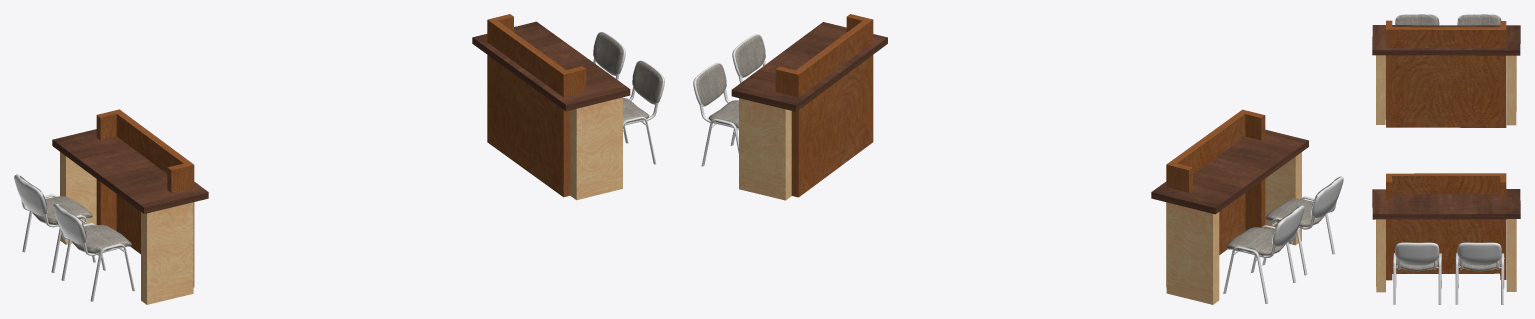
The model's file is MejaKursiEntrance.fbx.
The picture shows the model from 3 angles, left to right: view 1: azimuth 30°, elevation 25°; view 2: azimuth 150°, elevation 25°; view 3: azimuth 270°, elevation 25°; orthographic projection. The views are drawn at different scales.
Parts seen in each view (by area): view 1: Cube.003, sidushka.001_tkan_0.002, sidushka.001_tkan_0.001, sidushka.001_tkan_0.004, sidushka.001_tkan_0.003; view 2: Cube.003, sidushka.001_tkan_0.001, sidushka.001_tkan_0.003, sidushka.001_tkan_0.002, sidushka.001_tkan_0.004; view 3: Cube.003, sidushka.001_tkan_0.003, sidushka.001_tkan_0.004, sidushka.001_tkan_0.001, sidushka.001_tkan_0.002.
Boxes of the visible parts, box(x1,y1,x2,y2) form: Cube.003: box(52, 14, 630, 304); sidushka.001_tkan_0.002: box(53, 203, 135, 301); sidushka.001_tkan_0.001: box(14, 174, 95, 273); sidushka.001_tkan_0.004: box(623, 60, 664, 164); sidushka.001_tkan_0.003: box(593, 32, 625, 79); Cube.003: box(731, 14, 1308, 304); sidushka.001_tkan_0.001: box(1223, 205, 1304, 303); sidushka.001_tkan_0.003: box(693, 63, 738, 166); sidushka.001_tkan_0.002: box(1262, 176, 1343, 275); sidushka.001_tkan_0.004: box(732, 34, 765, 83); Cube.003: box(1372, 20, 1520, 292); sidushka.001_tkan_0.003: box(1455, 242, 1504, 304); sidushka.001_tkan_0.004: box(1393, 242, 1441, 304); sidushka.001_tkan_0.001: box(1457, 14, 1501, 25); sidushka.001_tkan_0.002: box(1395, 14, 1439, 25).
Bounding box in the file's own units: 667 × 132 × 182.
